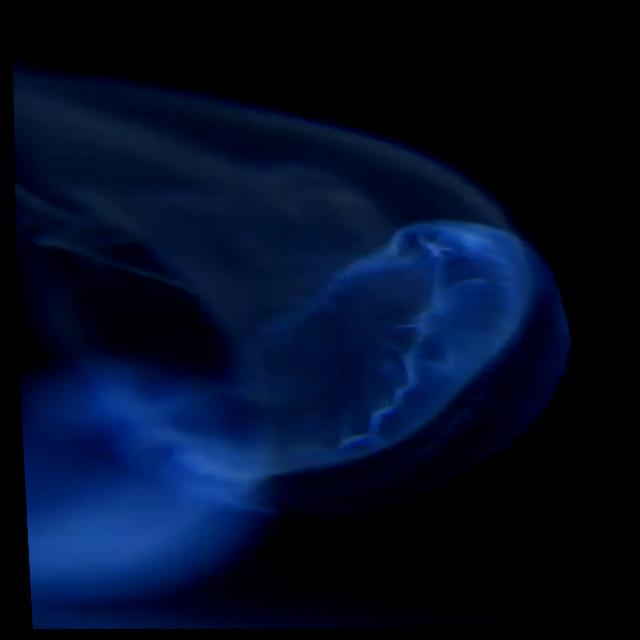Moon-jellyfish: (11, 69, 562, 512)
